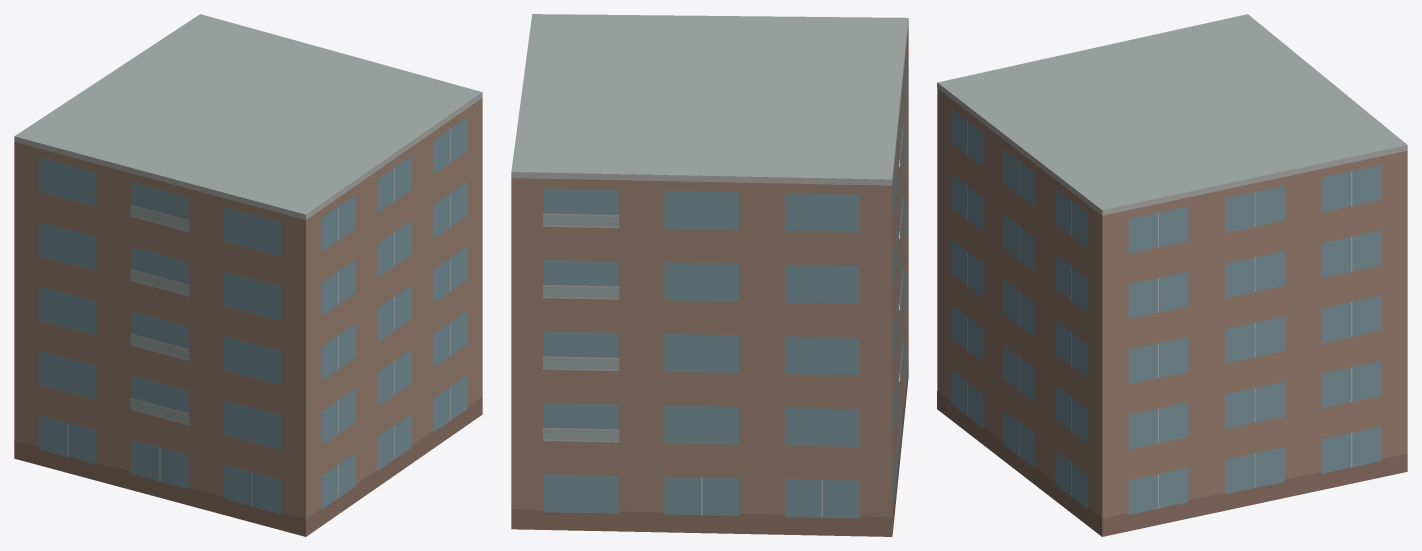
File: survey-upis-32940741.glb
3 renders of one model, left to right at view 1: azimuth 30°, elevation 25°; view 2: azimuth 150°, elevation 25°; view 3: azimuth 270°, elevation 25°, orthographic. The views are drawn at different scales.
Parts seen in each view (by area): view 1: survey-upis-32940741.tmp; view 2: survey-upis-32940741.tmp; view 3: survey-upis-32940741.tmp.
Part boxes in pixels (x1,y1,x2,y2): survey-upis-32940741.tmp: (14,14,482,536); survey-upis-32940741.tmp: (511,14,908,536); survey-upis-32940741.tmp: (937,14,1407,536).
Size of the model in its own units: 18.43 by 14.3 by 18.67.
